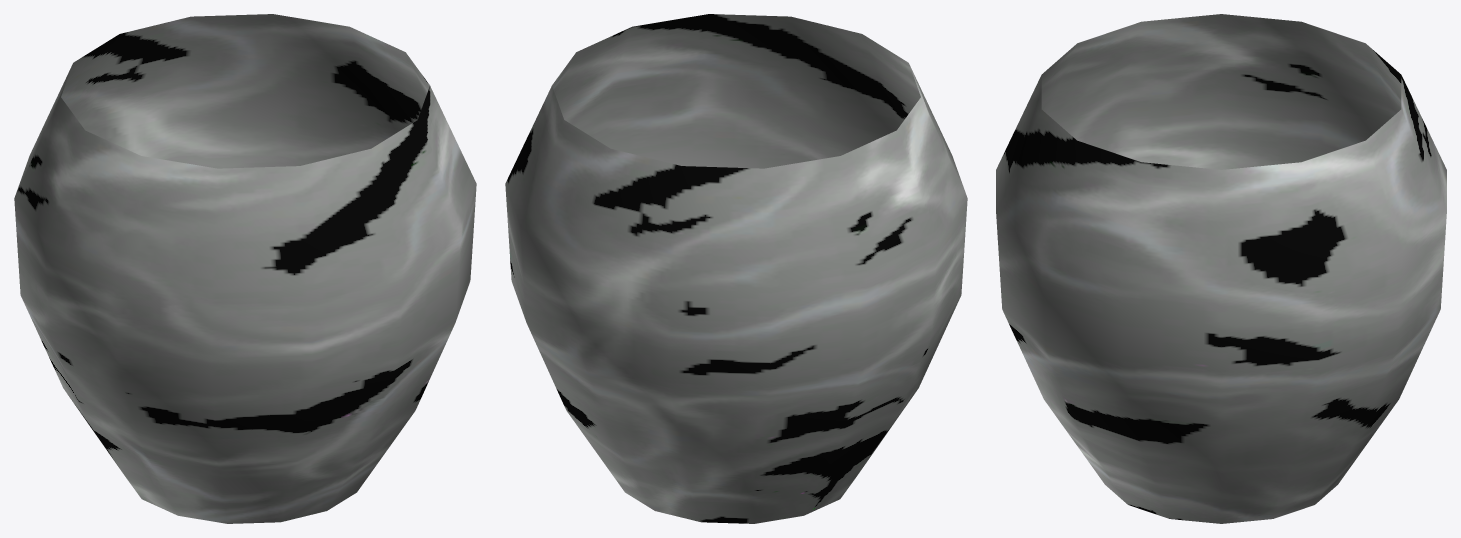
The model's file is Fx_z_jz_dm_dj_05_zhu.FBX.
The picture shows the model from 3 angles, left to right: view 1: azimuth 30°, elevation 25°; view 2: azimuth 150°, elevation 25°; view 3: azimuth 270°, elevation 25°; orthographic projection.
Parts seen in each view (by area): view 1: Cone001; view 2: Cone001; view 3: Cone001.
Boxes of the visible parts, x1,y1,x2,y2 form: Cone001: (14,14,476,523); Cone001: (505,14,967,523); Cone001: (996,14,1446,523).
Size of the model in its own units: 1.87 by 1.7 by 1.82.
